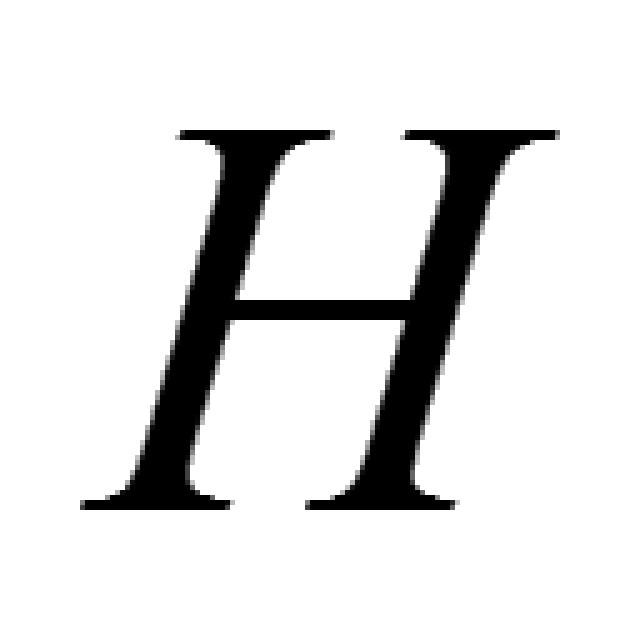H: (85, 130, 560, 510)
